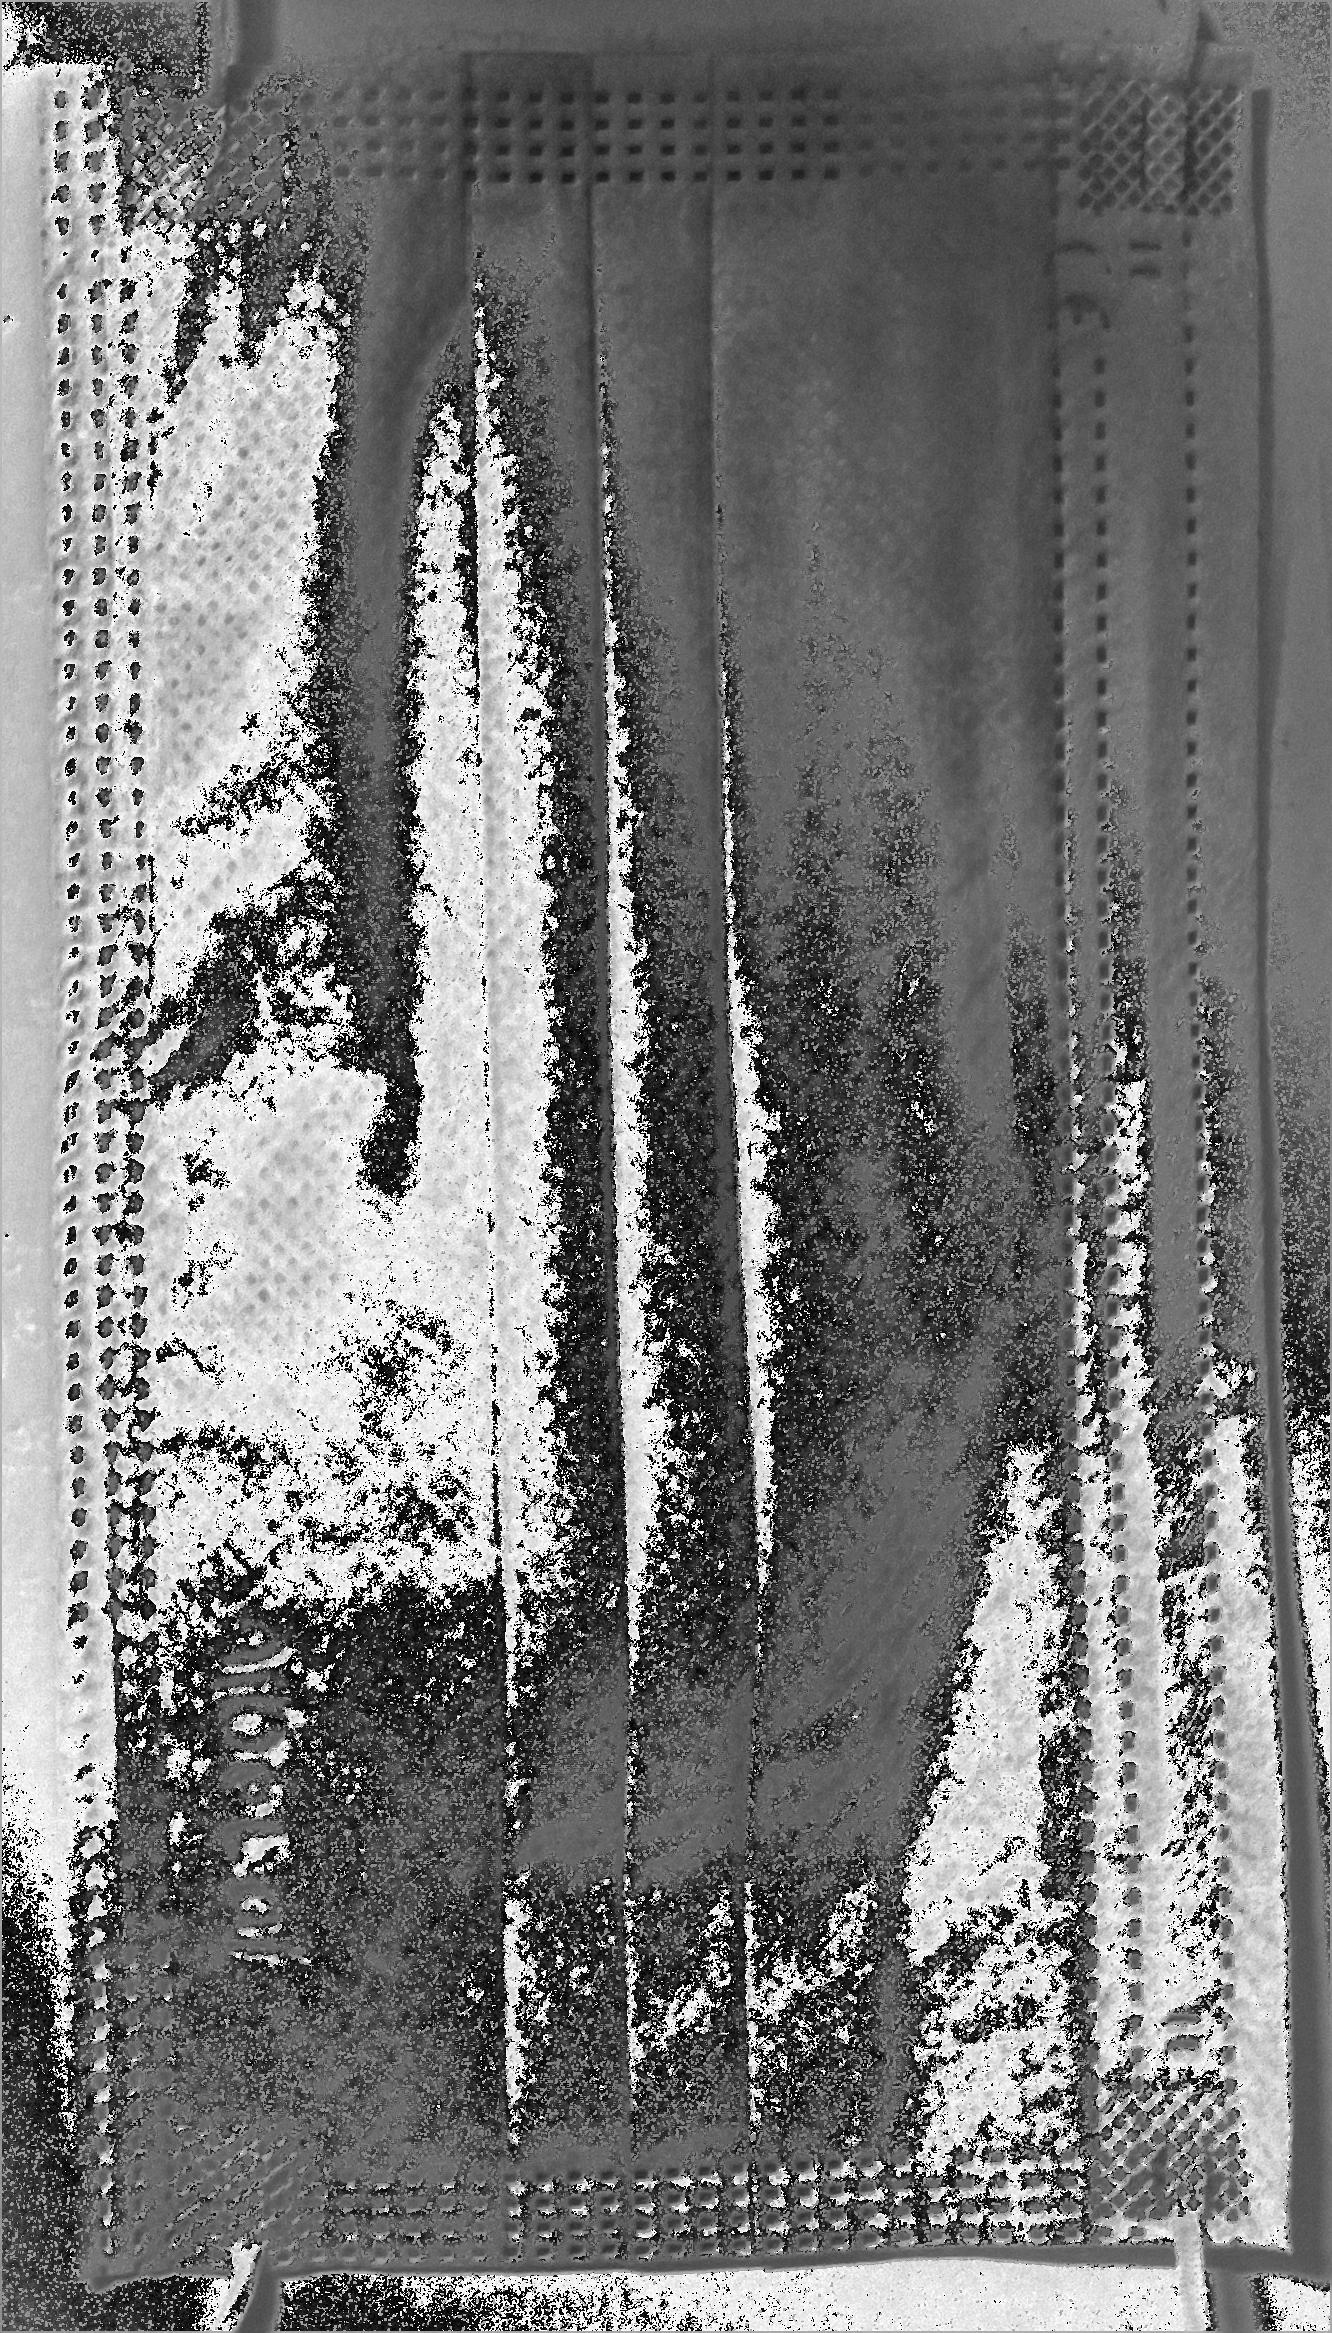Low GSM: (192, 359, 1032, 1997)
